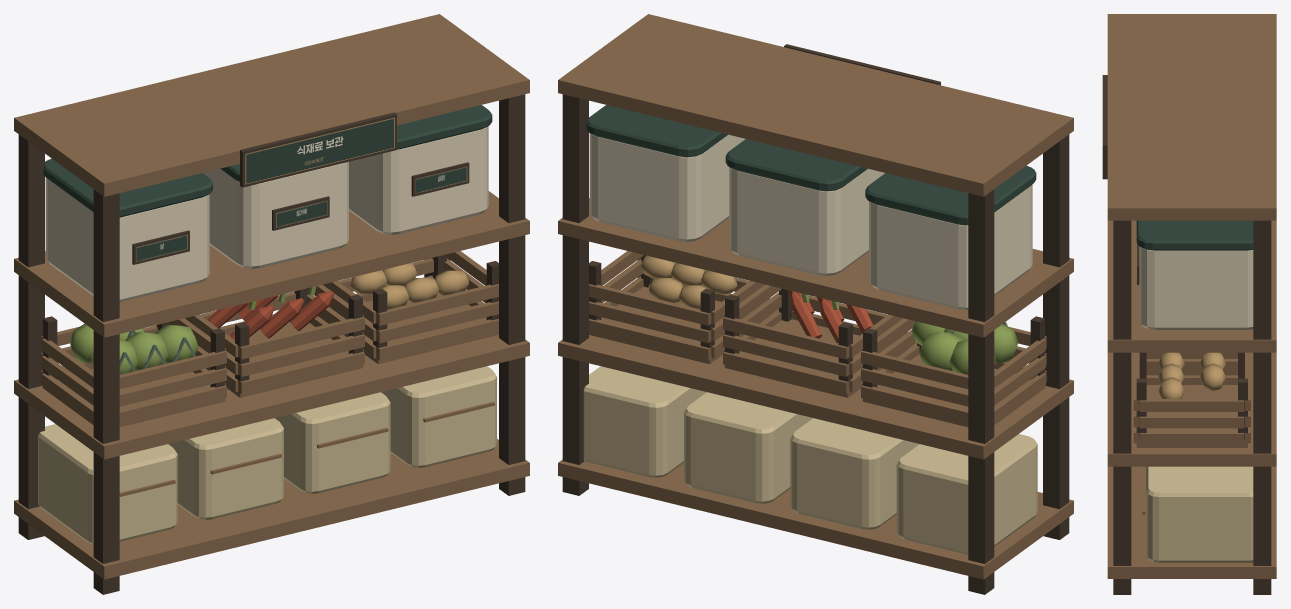
Rendered from 07_Ingredient_Store_Shelves.fbx.
3 renders of one model, left to right at view 1: azimuth 30°, elevation 25°; view 2: azimuth 150°, elevation 25°; view 3: azimuth 270°, elevation 25°, orthographic. The views are drawn at different scales.
Parts seen in each view (by area): view 1: 07_Ingredient_Store_Shelves__Structure; view 2: 07_Ingredient_Store_Shelves__Structure; view 3: 07_Ingredient_Store_Shelves__Structure.
Boxes of the visible parts, <box> form: 07_Ingredient_Store_Shelves__Structure: <box>14,14,529,594</box>; 07_Ingredient_Store_Shelves__Structure: <box>558,14,1073,594</box>; 07_Ingredient_Store_Shelves__Structure: <box>1102,14,1276,594</box>.
Bounding box in the file's own units: 256 × 238 × 97.1.
Materials: 1 (1 with a texture image).
